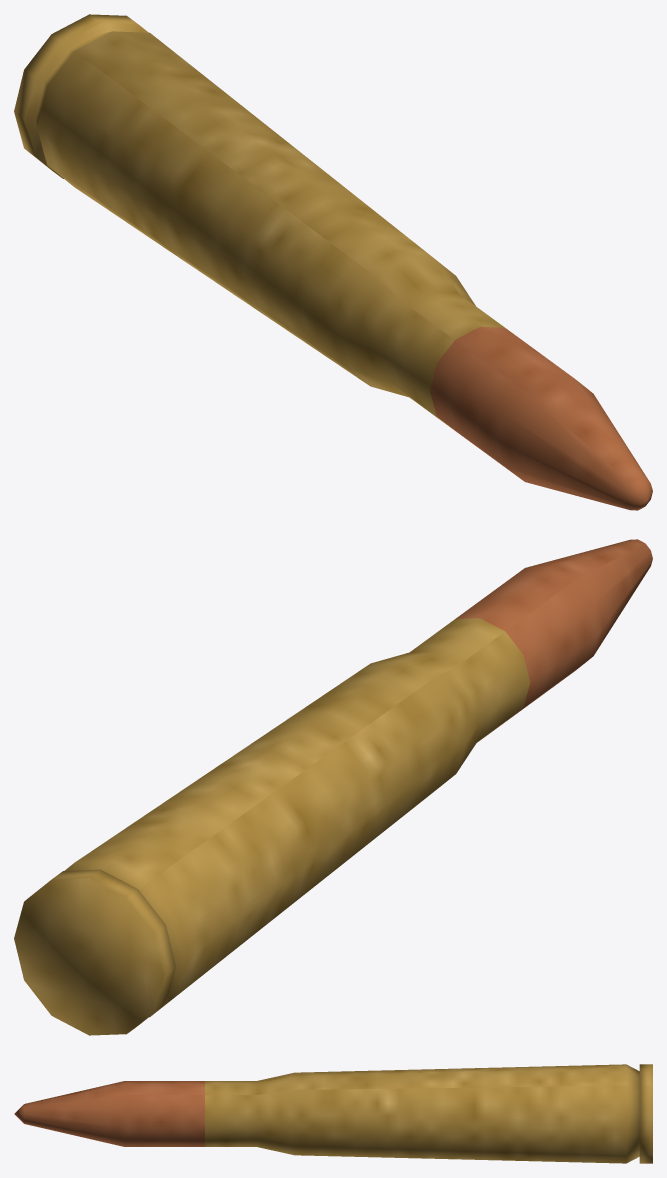
Rendered from round_762x54r.glb.
The picture shows the model from 3 angles, top to bottom: view 1: azimuth 30°, elevation 25°; view 2: azimuth 150°, elevation 25°; view 3: azimuth 270°, elevation 25°; orthographic projection. The views are drawn at different scales.
Parts seen in each view (by area): view 1: round_762x54r; view 2: round_762x54r; view 3: round_762x54r.
Boxes of the visible parts, box(x1,y1,x2,y2) form: round_762x54r: box(14, 14, 652, 510); round_762x54r: box(14, 539, 652, 1035); round_762x54r: box(14, 1064, 652, 1163).
Size of the model in its own units: 0.012 by 0.012 by 0.077.
2 materials, 2 textured.
